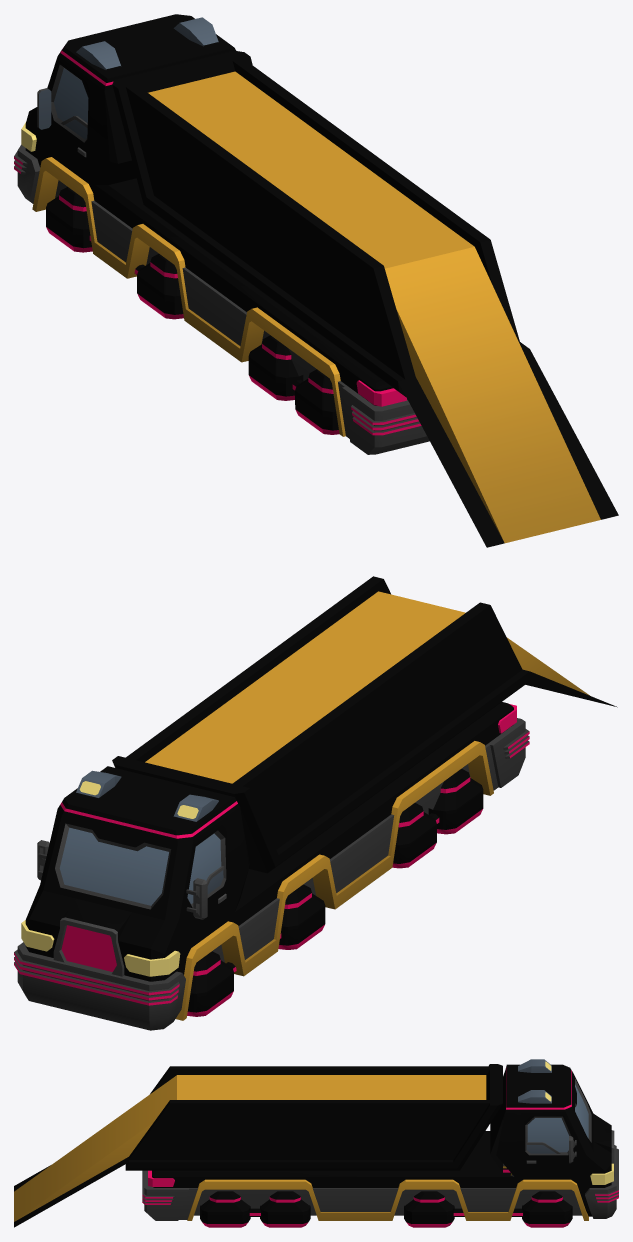
The model's file is Vehiculo_Alto_Doble_Rampa.fbx.
The picture shows the model from 3 angles, top to bottom: view 1: azimuth 30°, elevation 25°; view 2: azimuth 150°, elevation 25°; view 3: azimuth 270°, elevation 25°; orthographic projection. The views are drawn at different scales.
Visible parts, largest first — view 1: Vehiculo_Alto_Doble_Rampa; view 2: Vehiculo_Alto_Doble_Rampa; view 3: Vehiculo_Alto_Doble_Rampa.
Boxes of the visible parts, x1,y1,x2,y2 form: Vehiculo_Alto_Doble_Rampa: (14,14,618,547); Vehiculo_Alto_Doble_Rampa: (14,576,617,1030); Vehiculo_Alto_Doble_Rampa: (14,1059,618,1227).
Size of what is drawn, in the model's own units: 280 by 1346 by 316.
